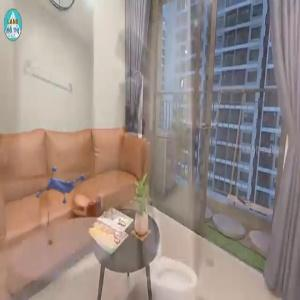drone: (38, 152, 97, 211)
